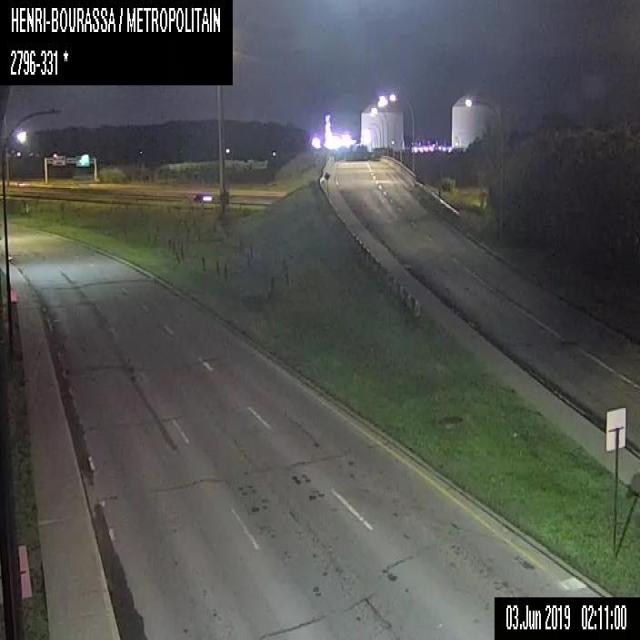vehicle: (195, 190, 212, 202)
